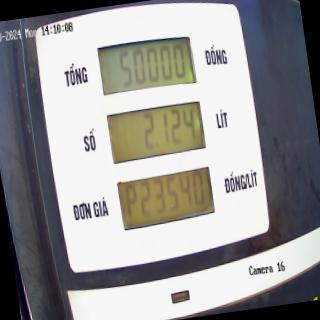screen: (93, 28, 218, 237)
